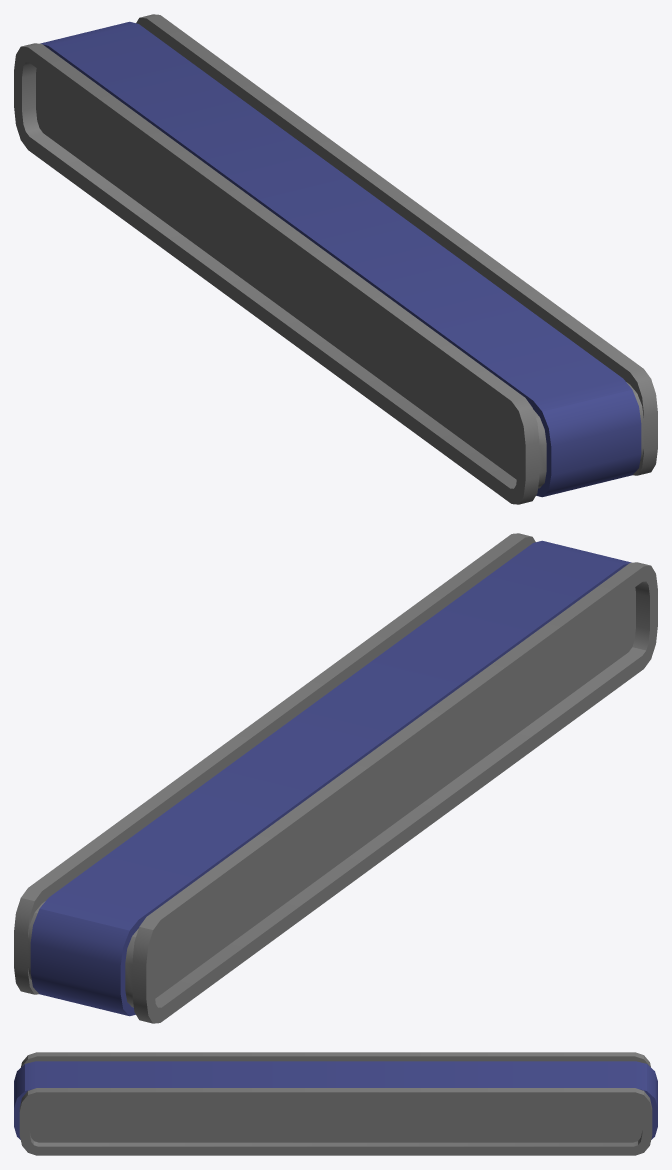
File: Smooth_line.fbx
3 views of the same model, one above another, from view 1: azimuth 30°, elevation 25°; view 2: azimuth 150°, elevation 25°; view 3: azimuth 270°, elevation 25° (orthographic). The views are drawn at different scales.
Parts seen in each view (by area): view 1: Smooth_line; view 2: Smooth_line; view 3: Smooth_line.
Boxes of the visible parts, x1,y1,x2,y2 form: Smooth_line: [14, 14, 657, 504]; Smooth_line: [14, 533, 657, 1023]; Smooth_line: [14, 1052, 657, 1155].
Bounding box in the file's own units: 294 × 218 × 2000.
